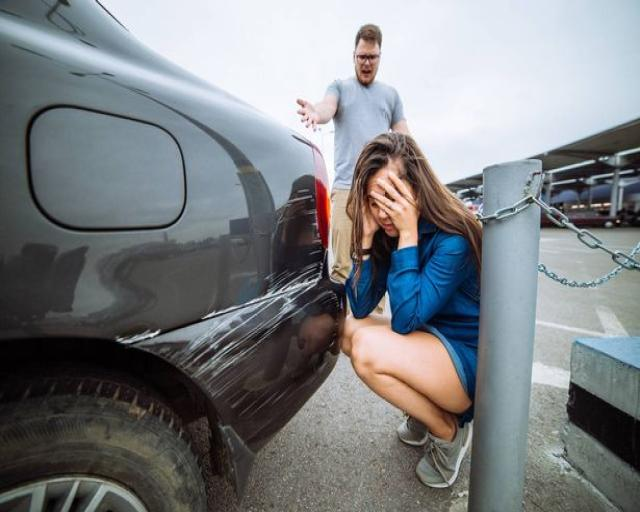scratch: (101, 164, 350, 427)
